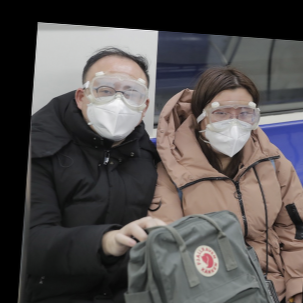with_mask: (84, 79, 143, 141), (203, 102, 254, 156)
